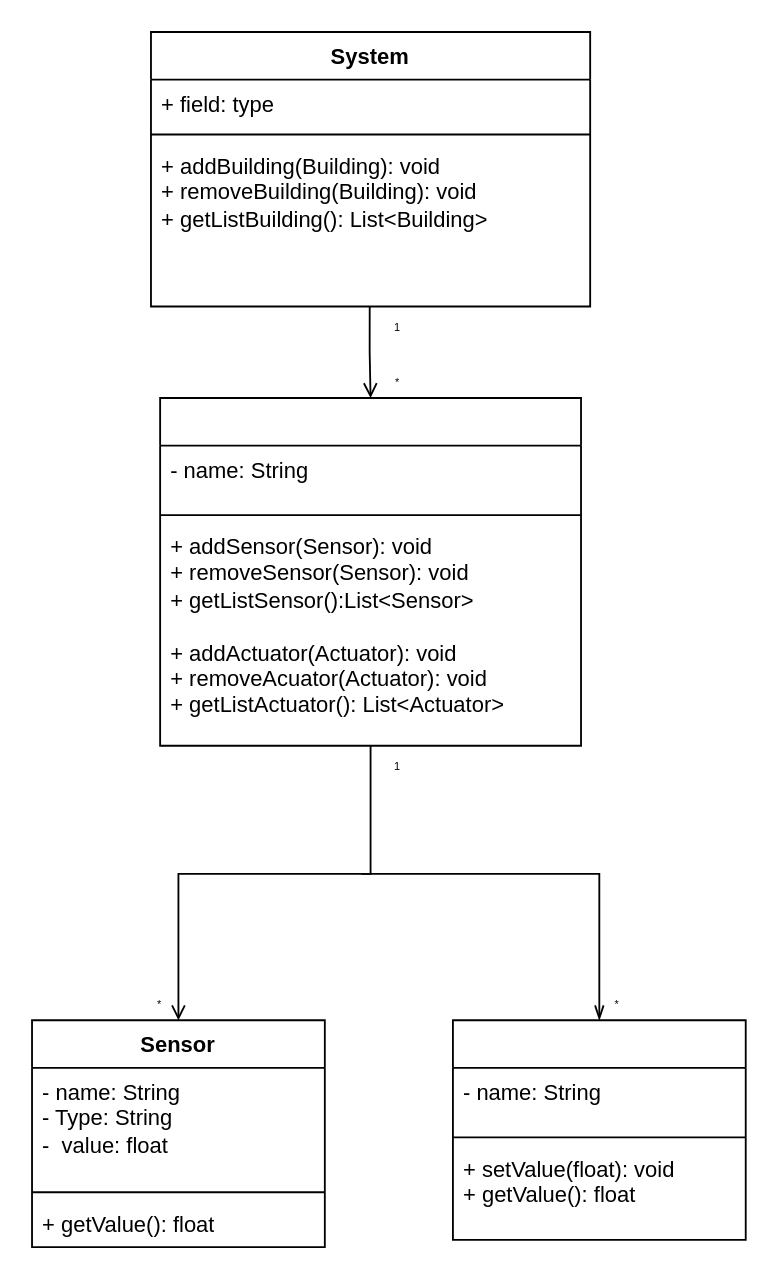
Some shapes in this 778 by 1285 pixel diagram are drawn without their labels. Each missing label, with the box of its shape:
Actuator: (451, 1018, 746, 1240)
Building: (158, 396, 581, 746)
